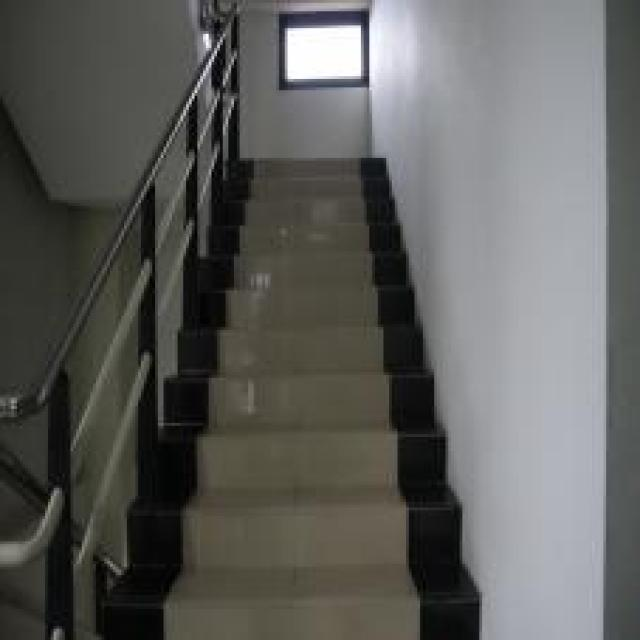upstair: (197, 155, 423, 632)
